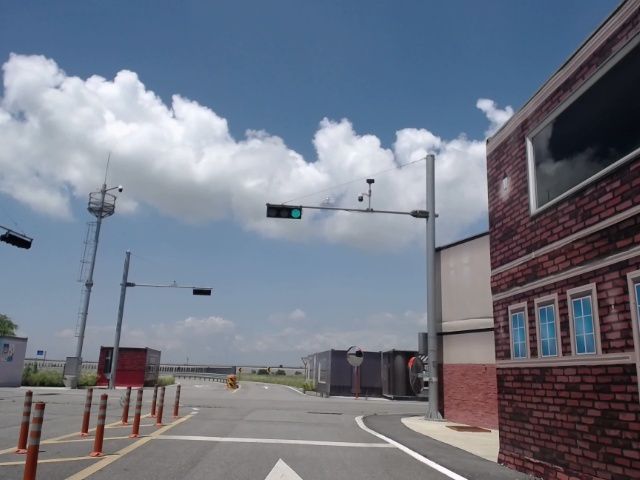green_3: (267, 202, 301, 220)
